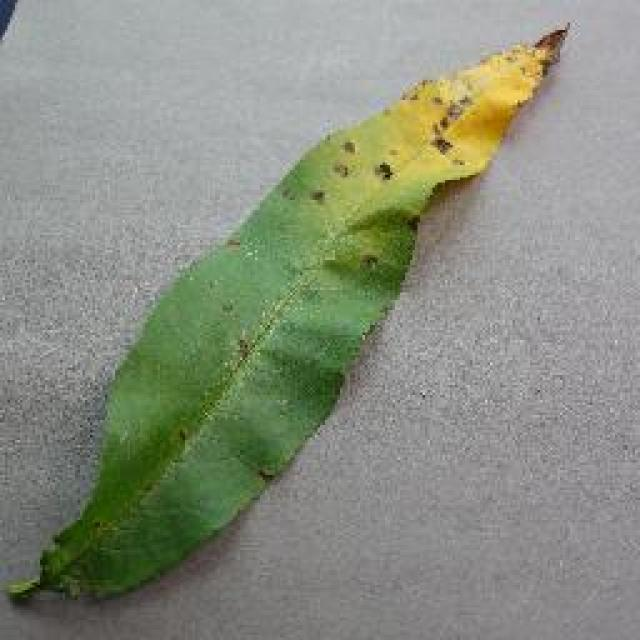Bacterial_spot: (300, 13, 584, 235), (213, 293, 264, 375)
